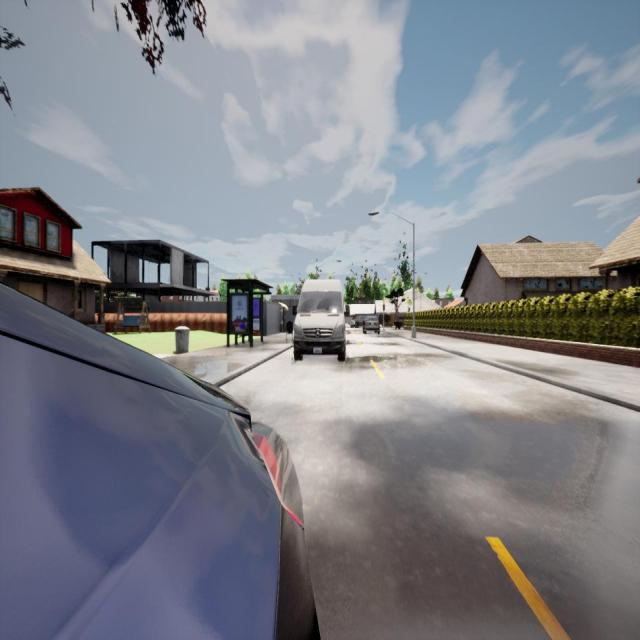Vehicle: (0, 284, 318, 638), (293, 281, 350, 362), (362, 315, 380, 335), (350, 315, 362, 329)
traffic_light: (382, 301, 386, 311)
